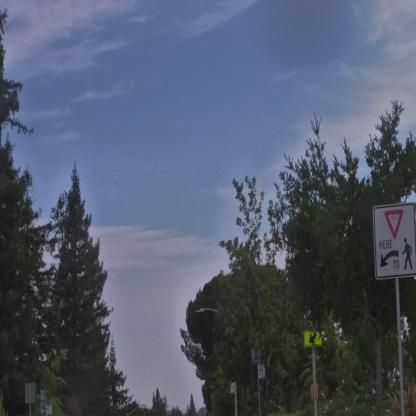sign: (370, 193, 416, 282)
